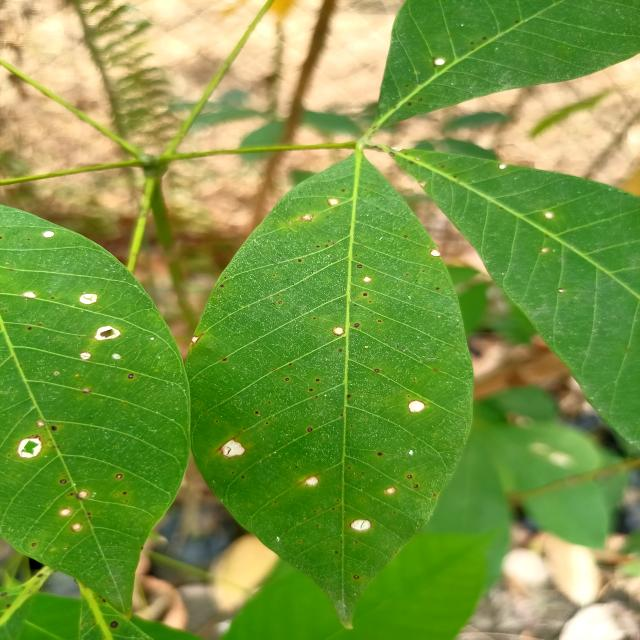Colletotrichum: (17, 435, 43, 458), (220, 438, 247, 458), (95, 325, 121, 341), (350, 518, 372, 531), (408, 400, 426, 413), (80, 293, 98, 305), (70, 522, 82, 532), (77, 489, 90, 498), (333, 326, 344, 336), (384, 486, 396, 495), (60, 508, 73, 516), (301, 214, 313, 222), (80, 352, 92, 359), (44, 231, 56, 238), (328, 199, 340, 206), (430, 249, 440, 257), (37, 420, 44, 426), (363, 277, 371, 282), (116, 474, 123, 479), (52, 426, 58, 431), (60, 479, 66, 484), (407, 474, 412, 479), (354, 323, 359, 328), (128, 374, 134, 378), (413, 484, 419, 488), (377, 452, 383, 456), (308, 427, 312, 432), (354, 575, 359, 579), (374, 369, 380, 372), (347, 394, 351, 398), (357, 265, 362, 268), (32, 543, 36, 546), (28, 327, 32, 330), (255, 411, 259, 414), (286, 378, 290, 381), (316, 378, 319, 382), (363, 293, 367, 296), (278, 301, 282, 304), (436, 287, 440, 290), (316, 245, 320, 248), (122, 492, 127, 494), (298, 259, 301, 262), (404, 235, 407, 238), (309, 389, 313, 391), (378, 320, 381, 322), (313, 317, 316, 319), (406, 274, 409, 275)
